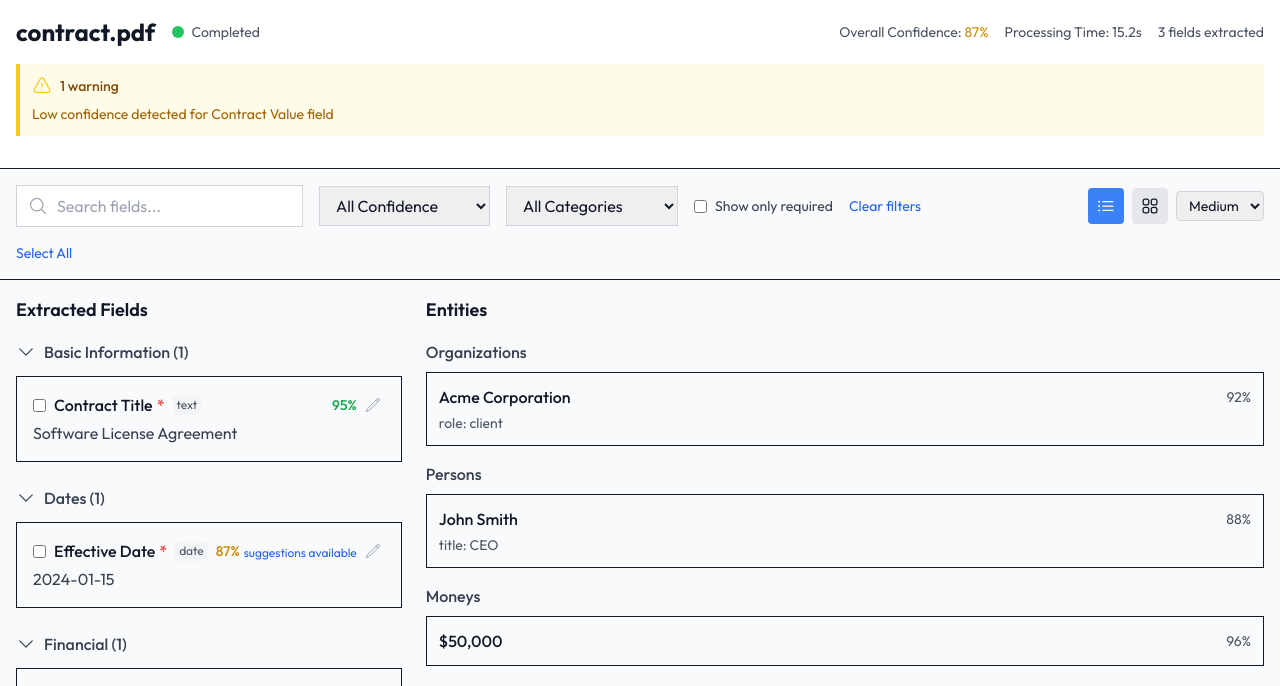
ExtractionResultVisualization › Field Editing › should cancel editing on escape key
Click the button named "edit field" next to "95".
click(373, 405)  # box [361,393,385,417]
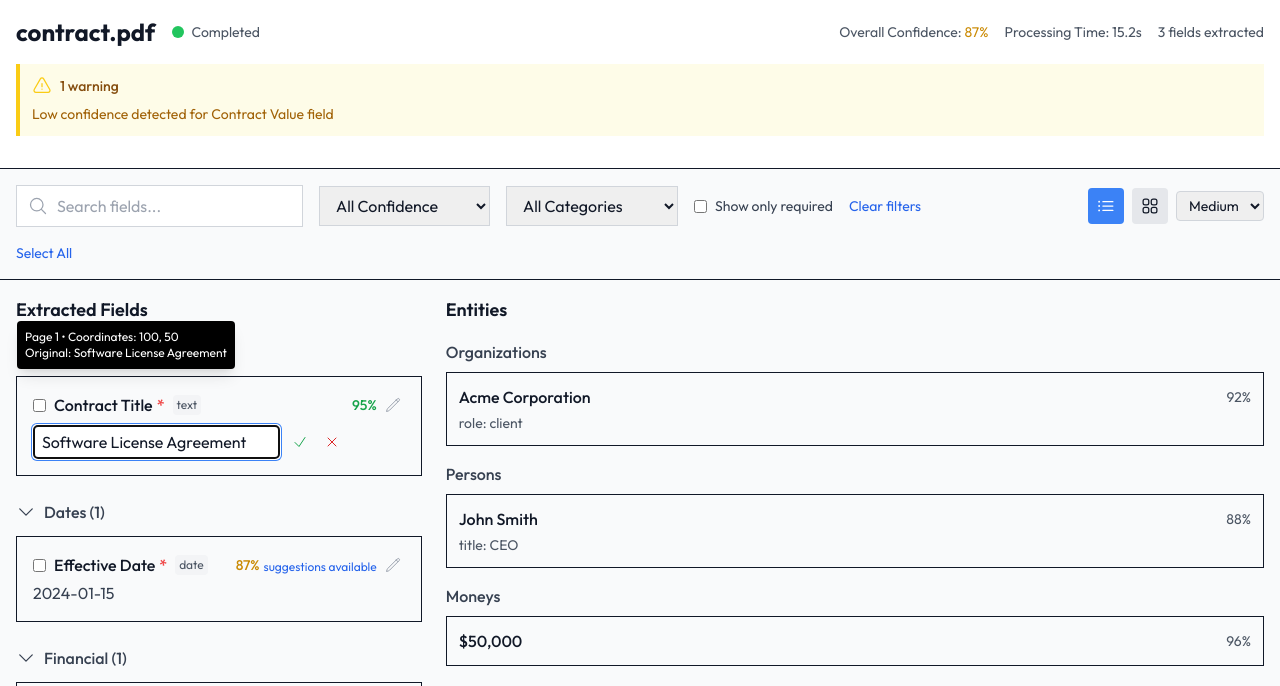
Type " Updated" into the field showing "Software License Agreement".
click(156, 442); type(" Updated")  # box [33,425,280,459]
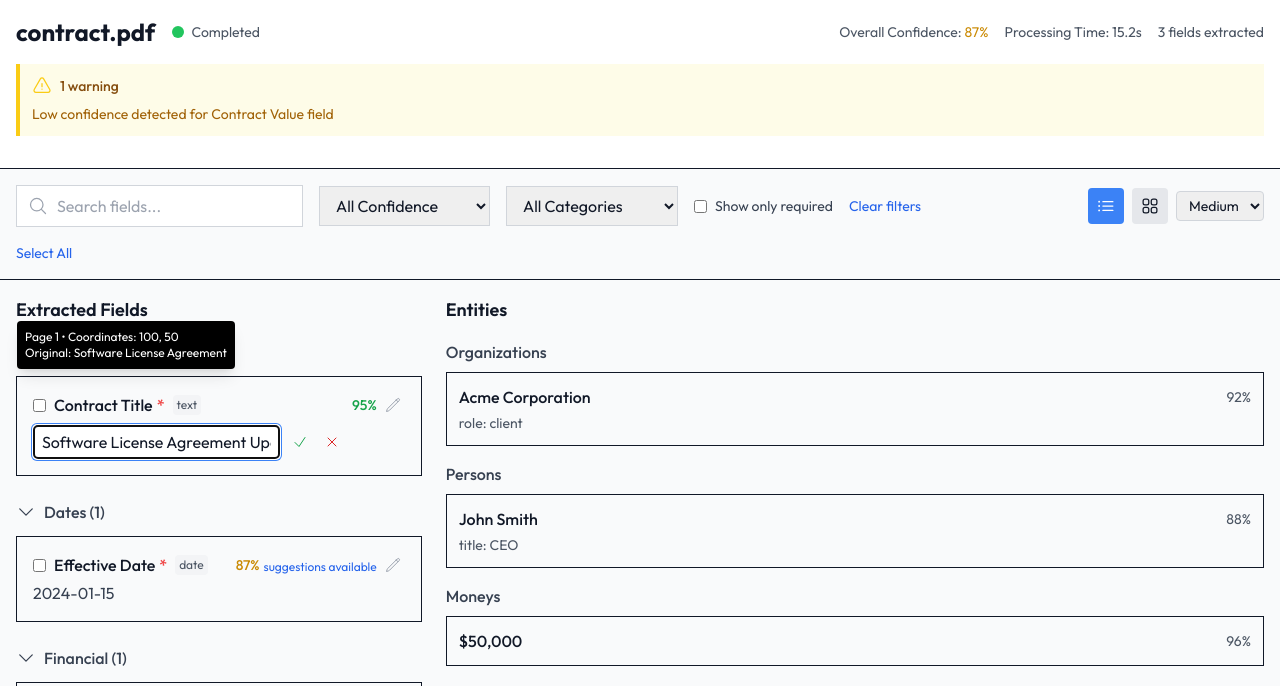
Press Escape in the field showing "Software License Agreement", box [33,425,280,459]
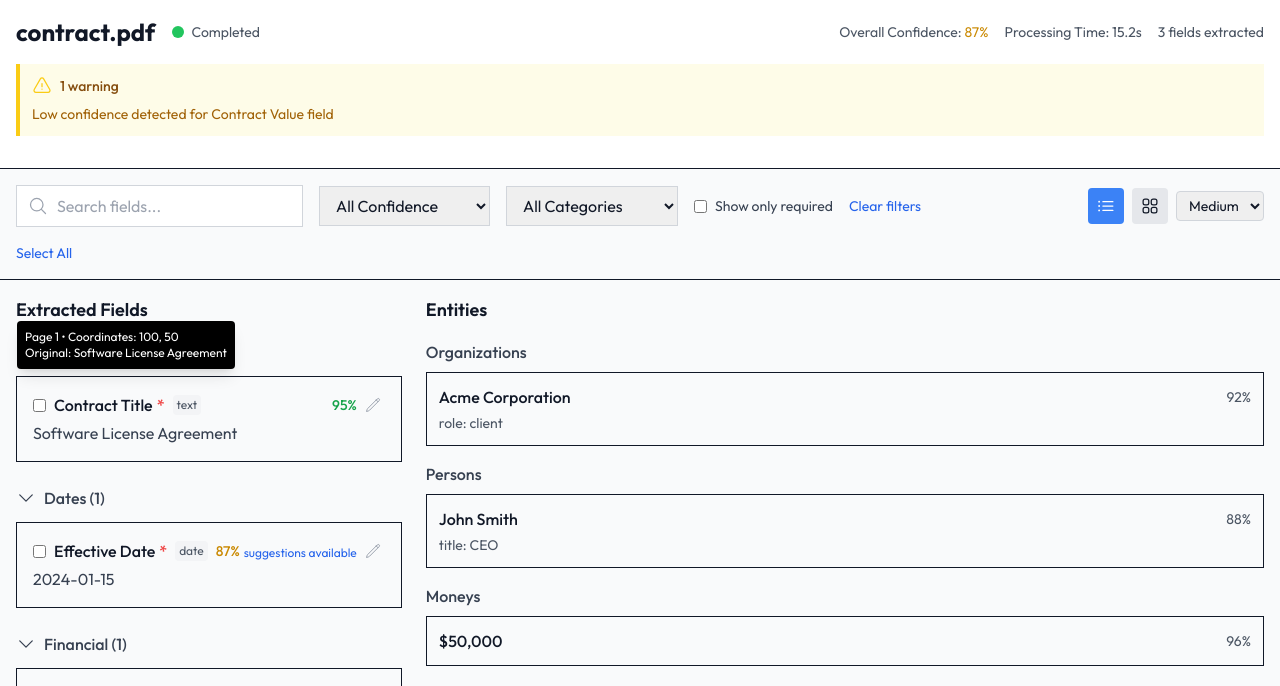
Expected: the text "Software License Agreement" is shown, [33,423,237,443]
